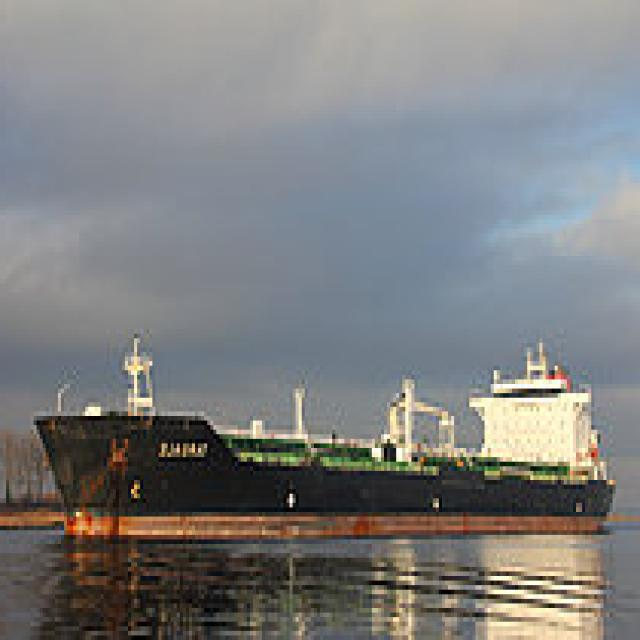Tanker: (36, 334, 618, 530)
